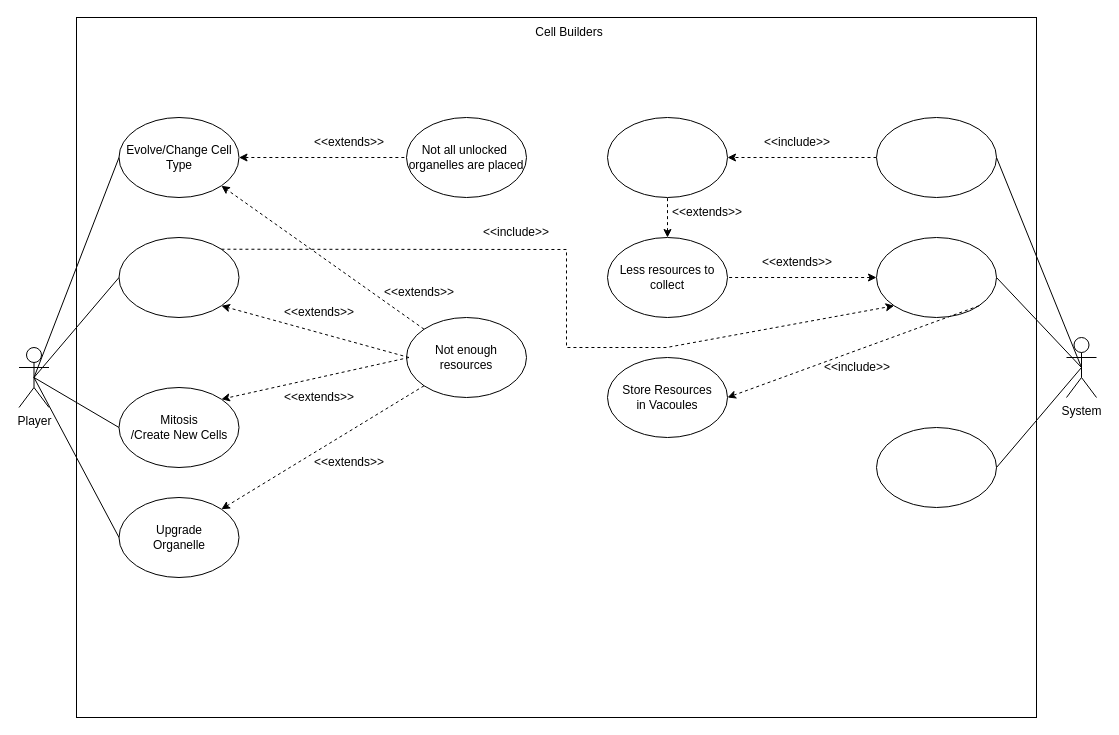
Image size: 1119x735. Some labels were removed from this diagram. Each missing label, with the box of its shape:
Adding New Organelle: (118, 236, 239, 318)
Cellular Waste Created: (876, 116, 996, 198)
Collect Resources From Organelle: (876, 236, 996, 318)
Display Scientific Information: (876, 426, 996, 508)
Production Slowed Down: (606, 116, 728, 198)
